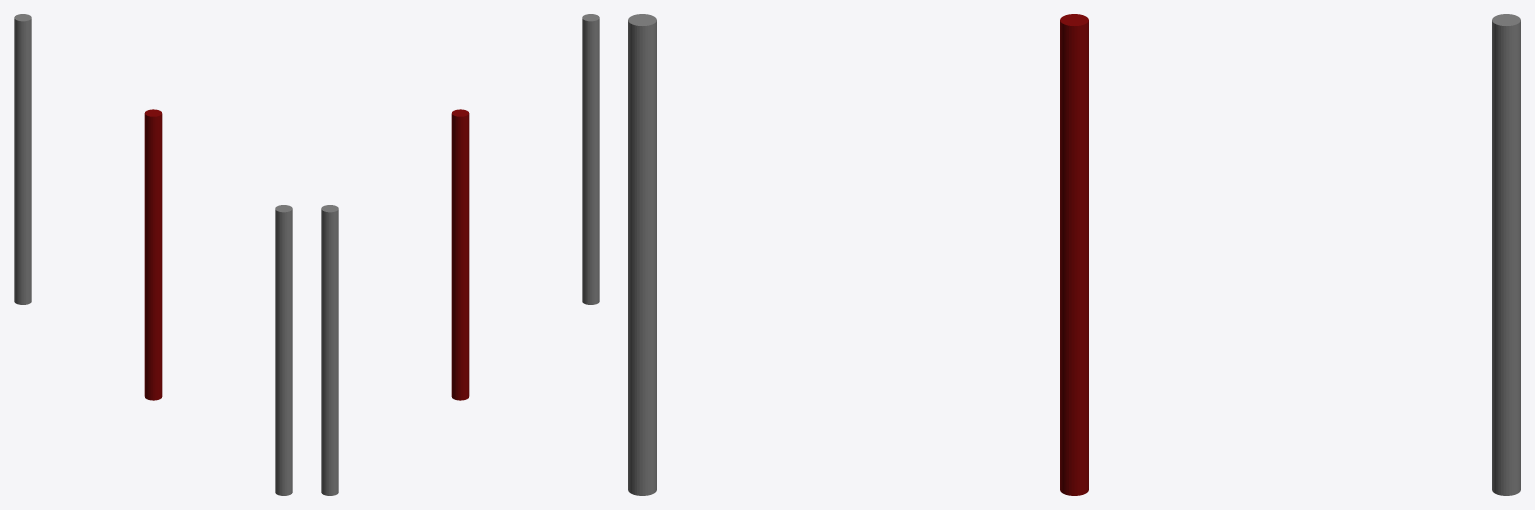
3 views of the same model, side by side, from view 1: azimuth 30°, elevation 25°; view 2: azimuth 150°, elevation 25°; view 3: azimuth 270°, elevation 25° (orthographic). The views are drawn at different scales.
Parts seen in each view (by area): view 1: Cylinder, Cylinder.002, Cylinder.001; view 2: Cylinder, Cylinder.002, Cylinder.001; view 3: Cylinder.002, Cylinder.001, Cylinder.
Boxes of the visible parts, left/top/right/bottom form: Cylinder: left=144, top=109, right=162, bottom=400; Cylinder.002: left=14, top=14, right=31, bottom=304; Cylinder.001: left=275, top=205, right=292, bottom=495; Cylinder: left=451, top=109, right=469, bottom=400; Cylinder.002: left=321, top=205, right=338, bottom=495; Cylinder.001: left=582, top=14, right=599, bottom=304; Cylinder.002: left=1492, top=14, right=1520, bottom=495; Cylinder.001: left=628, top=14, right=656, bottom=495; Cylinder: left=1060, top=14, right=1088, bottom=495.
Size of the model in its own units: 0.1 by 3.1 by 1.8.
